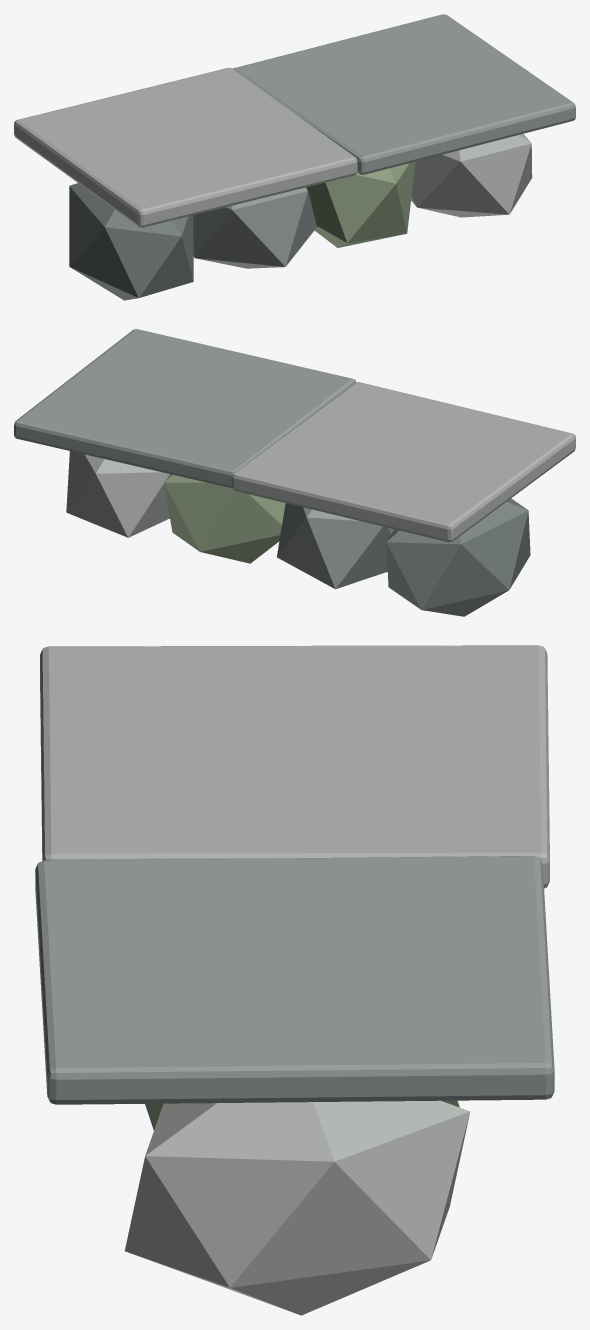
The model's file is cliff_cap_walkable_4x2.glb.
3 renders of one model, top to bottom at view 1: azimuth 30°, elevation 25°; view 2: azimuth 150°, elevation 25°; view 3: azimuth 270°, elevation 25°, orthographic. The views are drawn at different scales.
Visible parts, largest first — view 1: cliff_cap_walkable_01, cliff_cap_walkable_02, cliff_cap_base_01, cliff_cap_base_04, cliff_cap_base_02, cliff_cap_base_03; view 2: cliff_cap_walkable_01, cliff_cap_walkable_02, cliff_cap_base_01, cliff_cap_base_03, cliff_cap_base_02, cliff_cap_base_04; view 3: cliff_cap_walkable_02, cliff_cap_walkable_01, cliff_cap_base_04.
Boxes of the visible parts, x1,y1,x2,y2 form: cliff_cap_walkable_01: [14, 67, 357, 227]; cliff_cap_walkable_02: [233, 14, 575, 174]; cliff_cap_base_01: [69, 183, 193, 300]; cliff_cap_base_04: [411, 134, 532, 217]; cliff_cap_base_02: [193, 187, 316, 268]; cliff_cap_base_03: [306, 161, 415, 247]; cliff_cap_walkable_01: [231, 382, 575, 542]; cliff_cap_walkable_02: [14, 329, 355, 488]; cliff_cap_base_01: [386, 498, 530, 616]; cliff_cap_base_03: [164, 474, 285, 563]; cliff_cap_base_02: [277, 503, 393, 589]; cliff_cap_base_04: [66, 451, 170, 537]; cliff_cap_walkable_02: [35, 856, 554, 1104]; cliff_cap_walkable_01: [40, 645, 549, 888]; cliff_cap_base_04: [124, 1100, 470, 1315].
Size of the model in its own units: 4.05 by 1.3 by 2.07.
